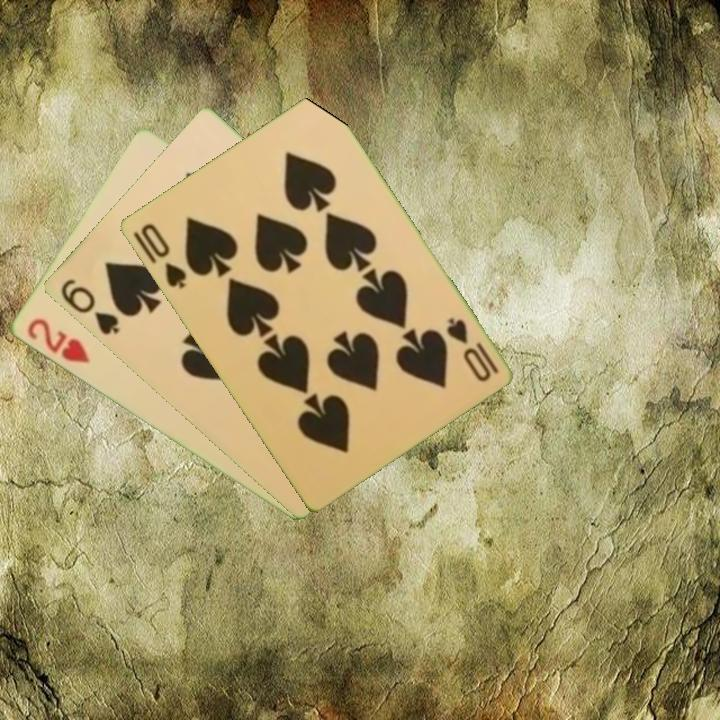10s: (442, 313, 501, 385), (136, 219, 189, 292)
2h: (23, 314, 92, 367)
6s: (56, 275, 122, 338)
